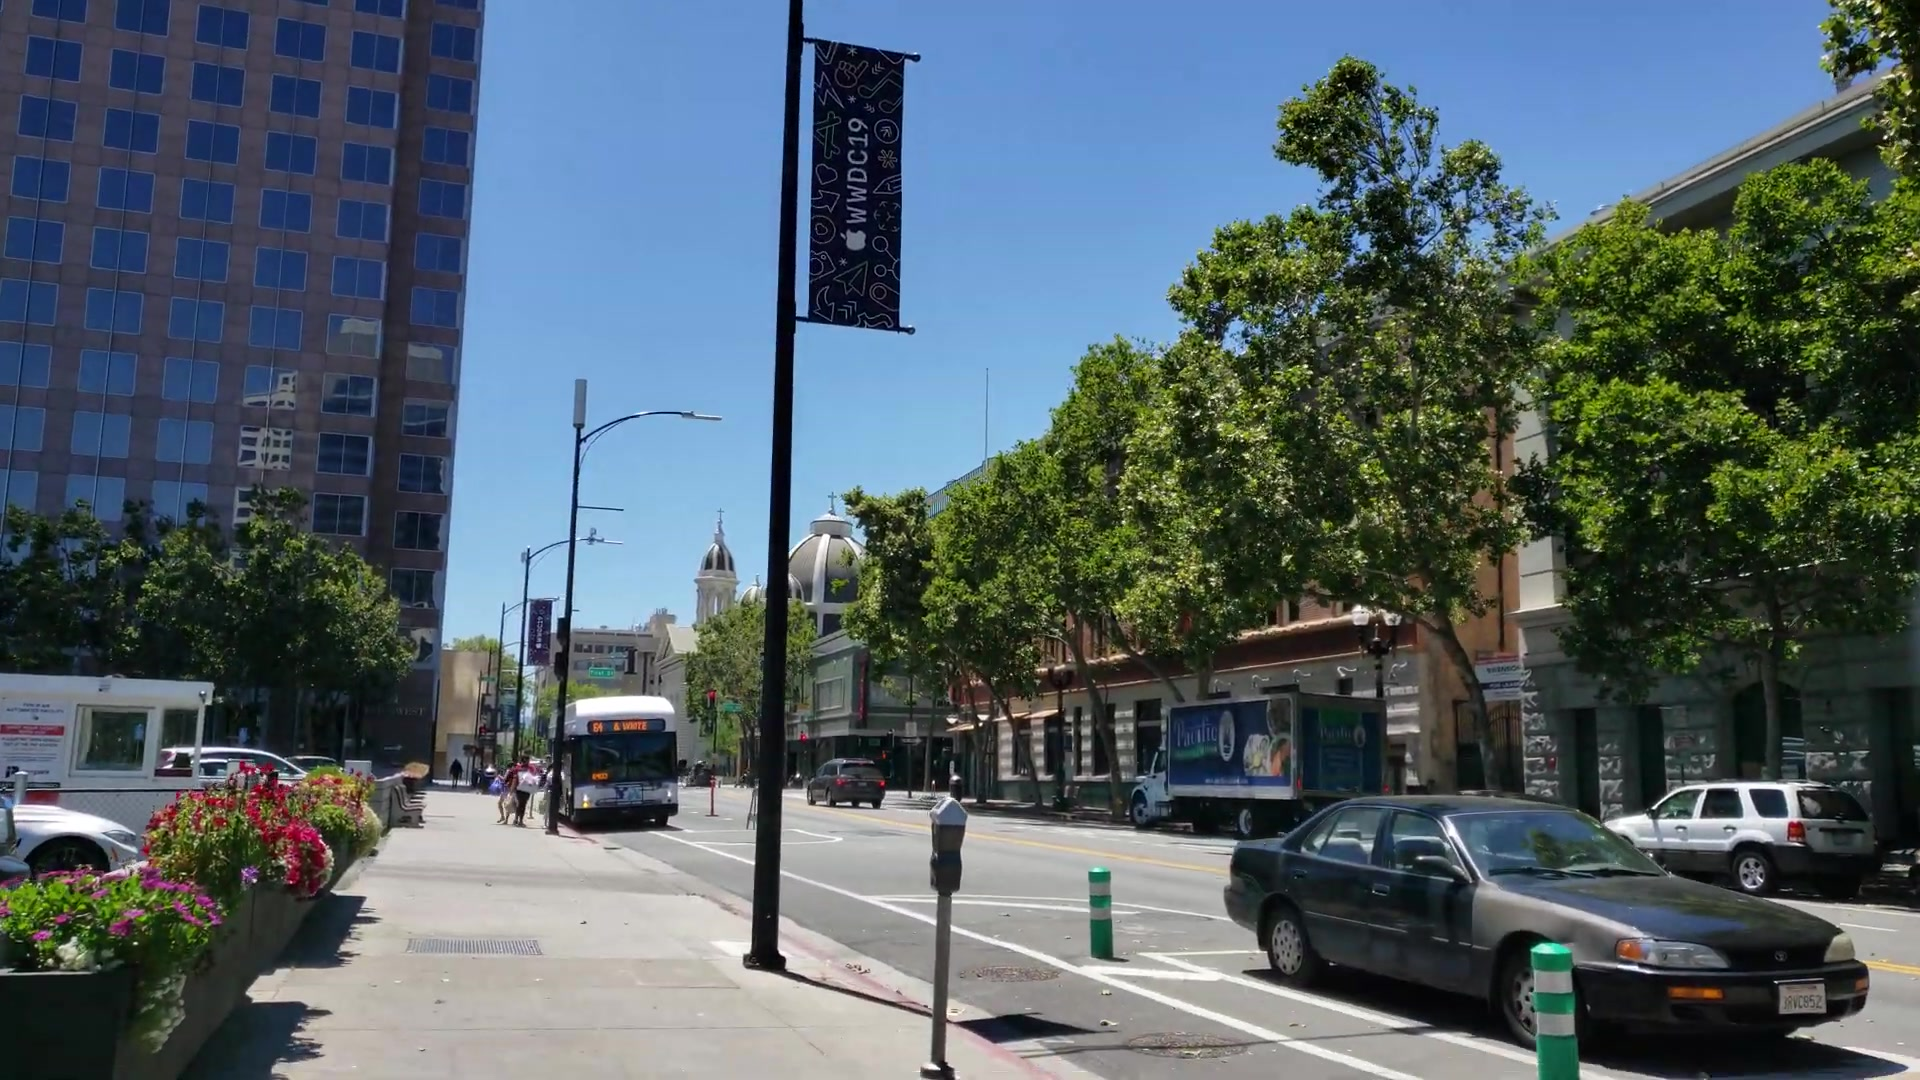vehicle_away: (808, 760, 887, 807)
vehicle_toward: (545, 698, 680, 829)
